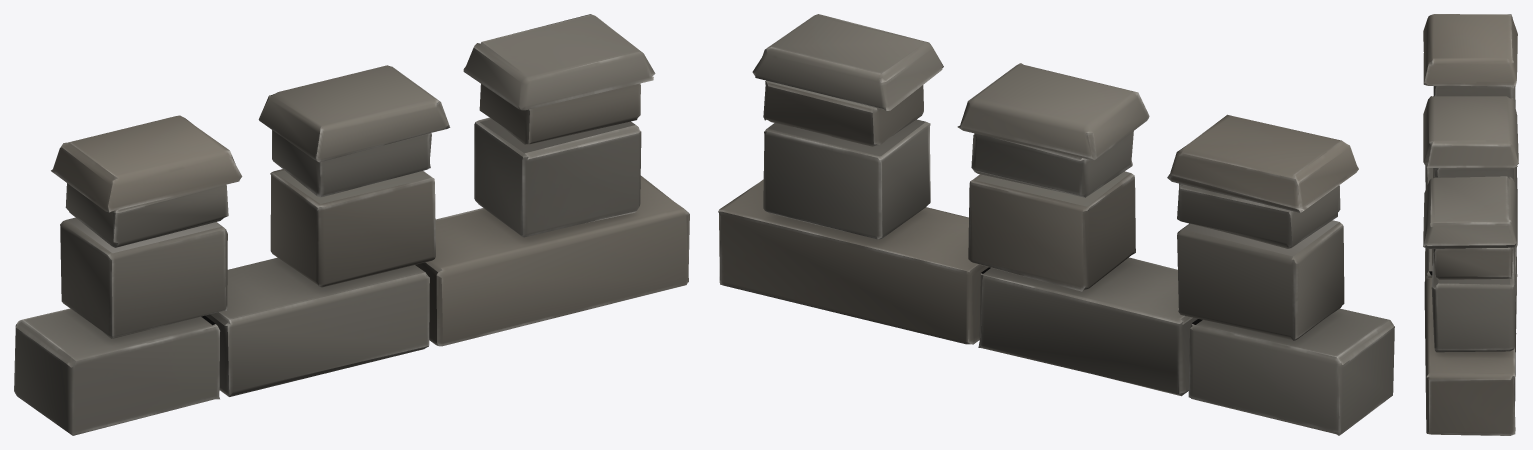
File: gallows_rampart.glb
3 renders of one model, left to right at view 1: azimuth 30°, elevation 25°; view 2: azimuth 150°, elevation 25°; view 3: azimuth 270°, elevation 25°, orthographic. The views are drawn at different scales.
Parts seen in each view (by area): view 1: gallows_rampart; view 2: gallows_rampart; view 3: gallows_rampart.
Part boxes in pixels (x1,y1,x2,y2): gallows_rampart: (14,14,689,435); gallows_rampart: (718,14,1394,435); gallows_rampart: (1423,14,1518,435).
Size of the model in its own units: 3.97 by 1.51 by 0.6569.
1 material, 1 textured.
